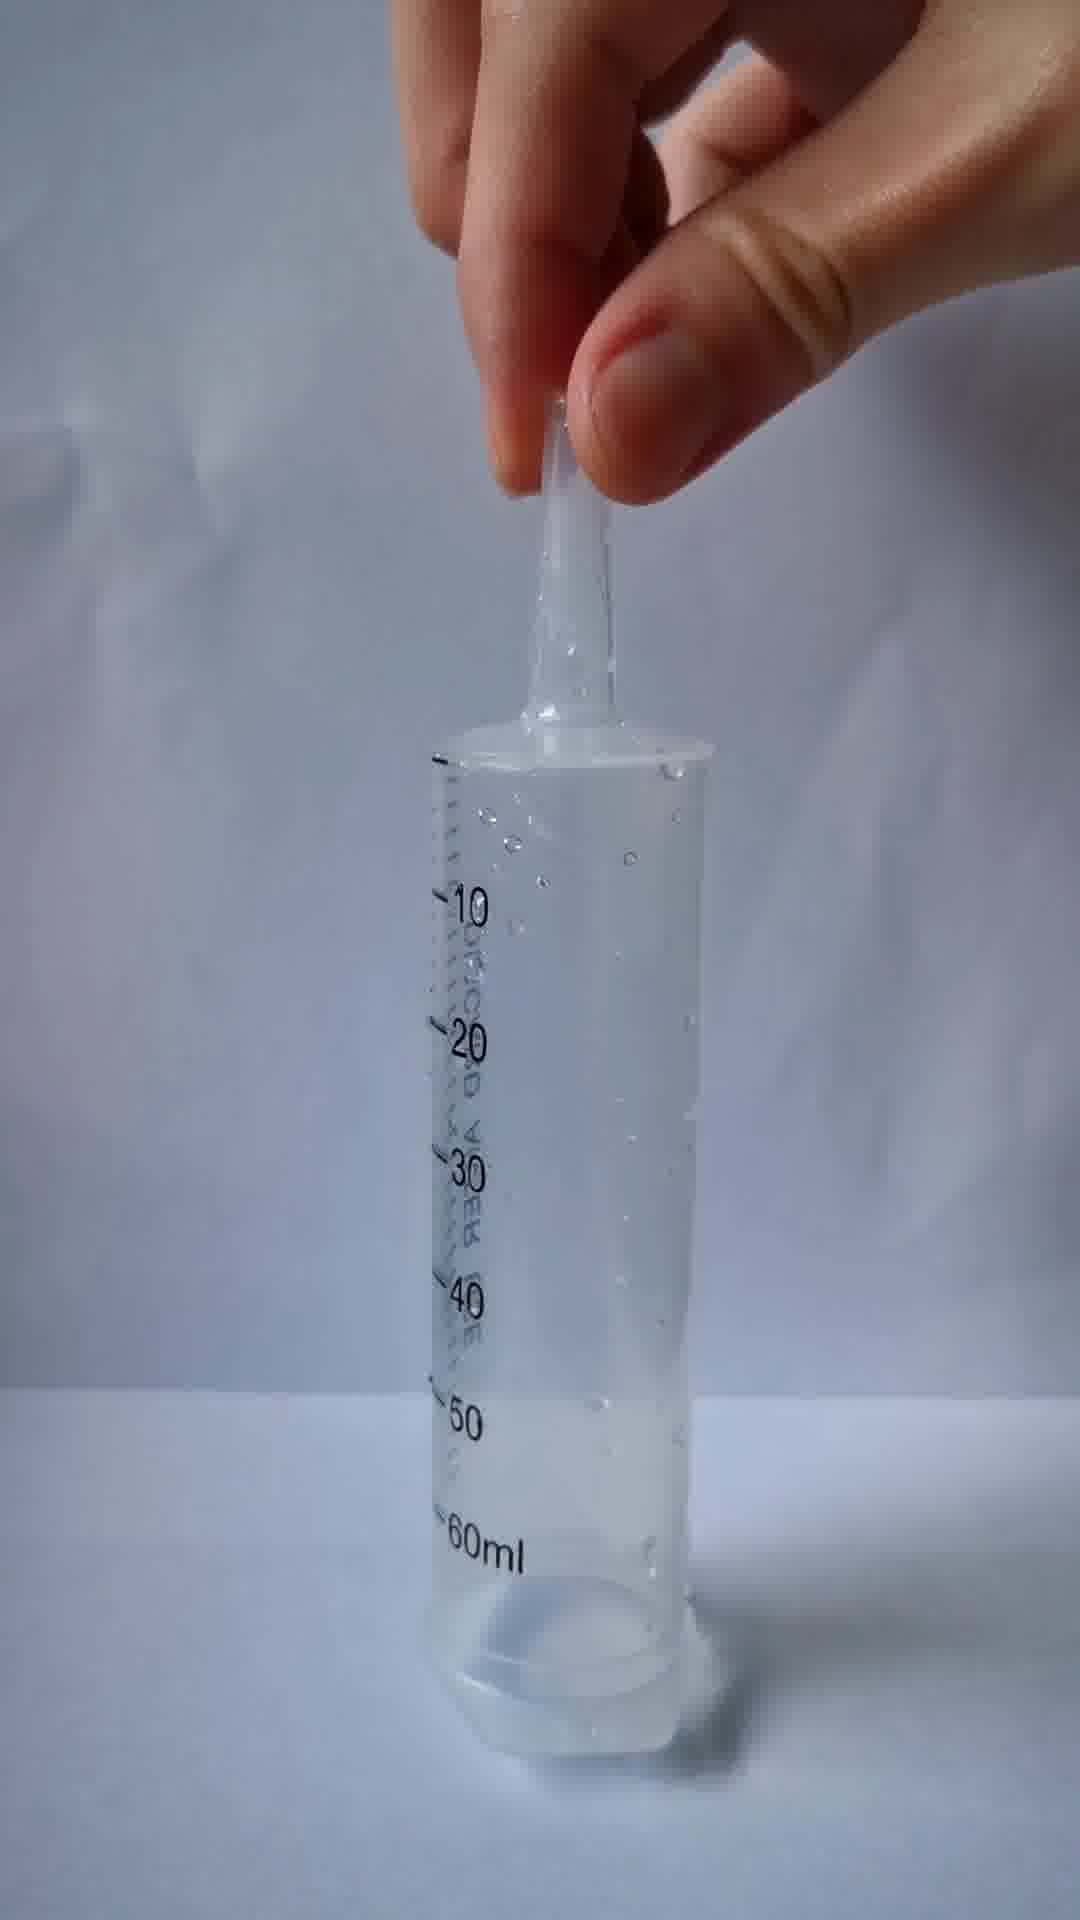syringe: (423, 396, 717, 1758)
